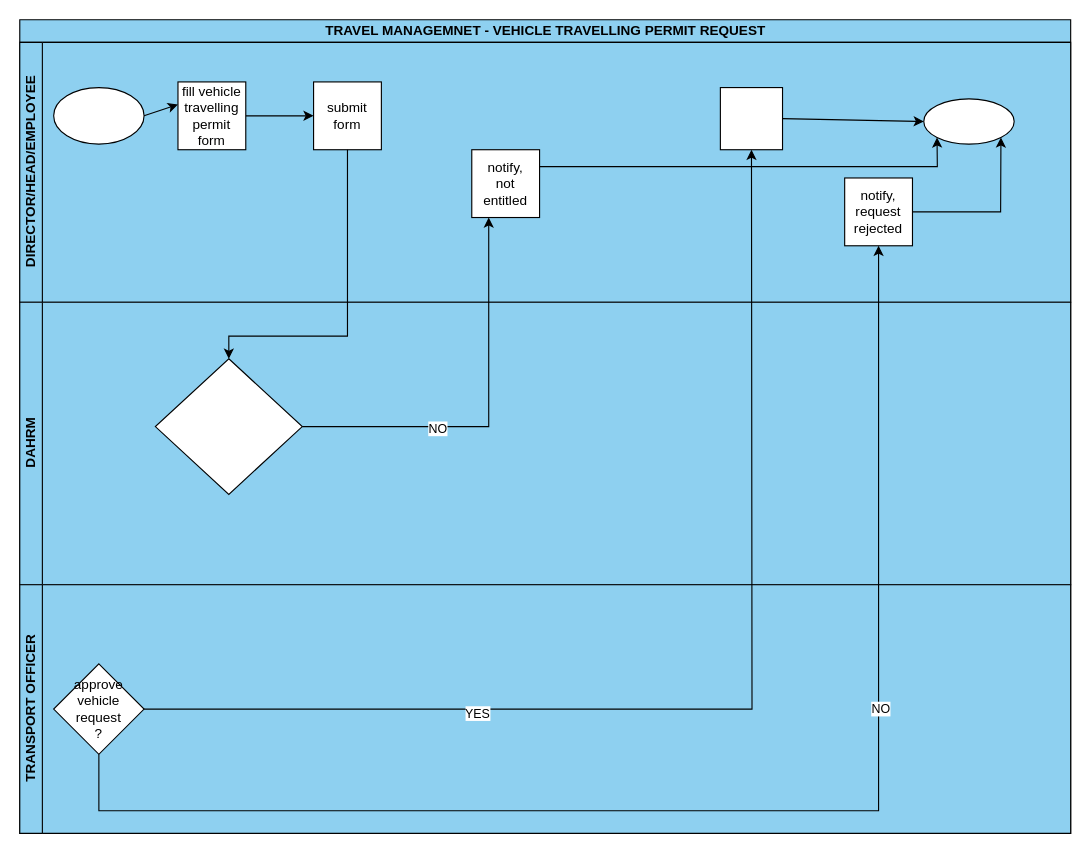
This 1090x853 diagram has some shape labels left out. The centre of each missing label's shape, as x and y in pixels:
"check employee entitled to use vehicle ?" goes at pixel 228 426.
"end" goes at pixel 968 121.
"get vehicle" goes at pixel 751 118.
"start" goes at pixel 98 115.
